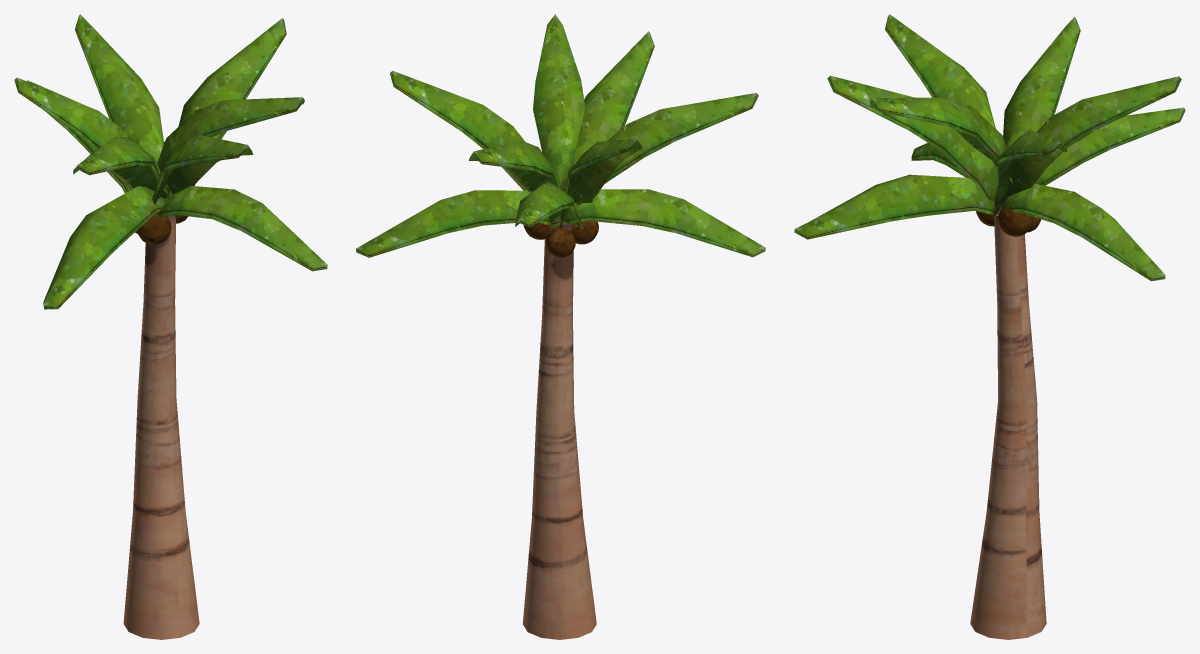
The model's file is Egypt_Tree_2.fbx.
3 renders of one model, left to right at view 1: azimuth 30°, elevation 25°; view 2: azimuth 150°, elevation 25°; view 3: azimuth 270°, elevation 25°, orthographic. The views are drawn at different scales.
Visible parts, largest first — view 1: Egypt_Tree_2; view 2: Egypt_Tree_2; view 3: Egypt_Tree_2.
Boxes of the visible parts, x1,y1,x2,y2 form: Egypt_Tree_2: (14,14,327,639); Egypt_Tree_2: (356,14,765,639); Egypt_Tree_2: (794,14,1185,639).
Size of the model in its own units: 319 by 544 by 344.
